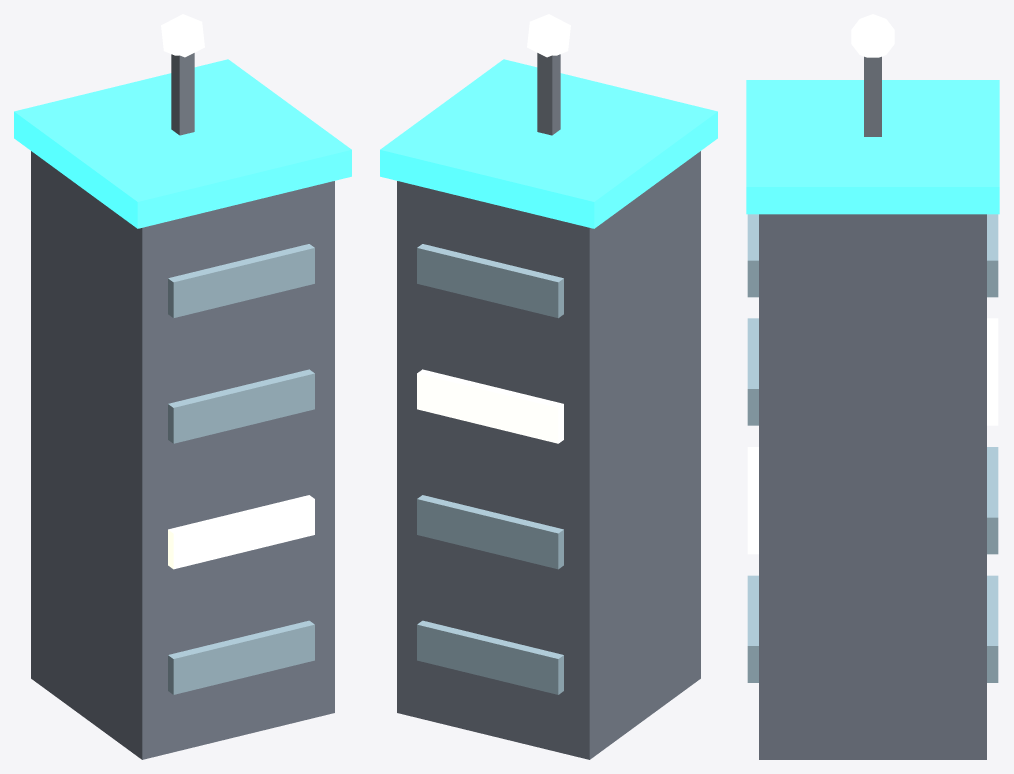
The model's file is tower.glb.
The picture shows the model from 3 angles, left to right: view 1: azimuth 30°, elevation 25°; view 2: azimuth 150°, elevation 25°; view 3: azimuth 270°, elevation 25°; orthographic projection. The views are drawn at different scales.
Visible parts, largest first — view 1: MetroTower; view 2: MetroTower; view 3: MetroTower.
Part boxes in pixels (<box>): MetroTower: <box>14,14,351,759</box>; MetroTower: <box>380,14,717,759</box>; MetroTower: <box>746,14,999,759</box>.
Size of the model in its own units: 1 by 3.04 by 1.
